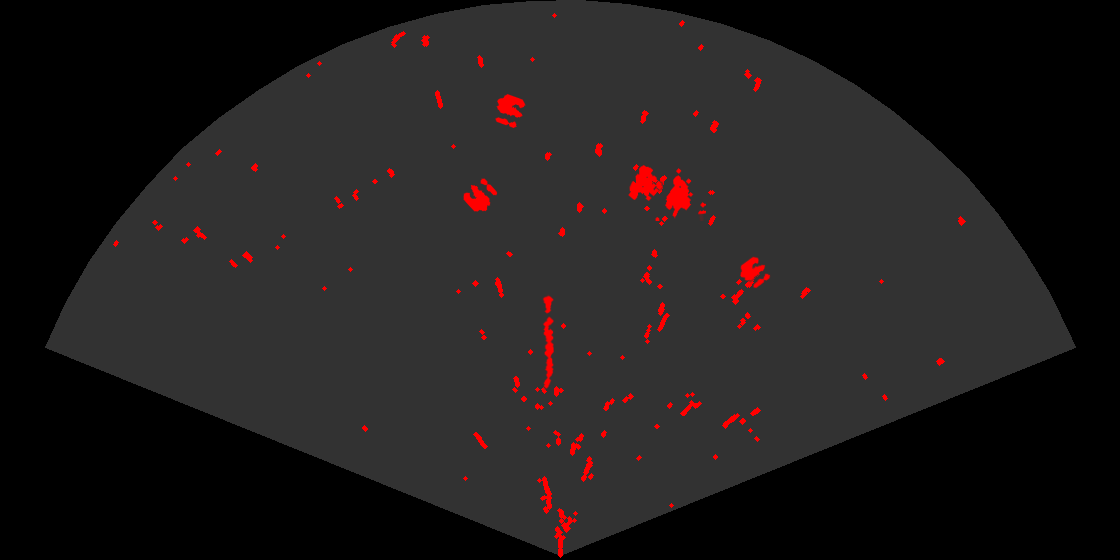ball: (462, 177, 499, 213), (494, 92, 527, 130), (739, 255, 772, 290)
cage: (627, 164, 706, 221)
chain: (541, 294, 555, 390)
